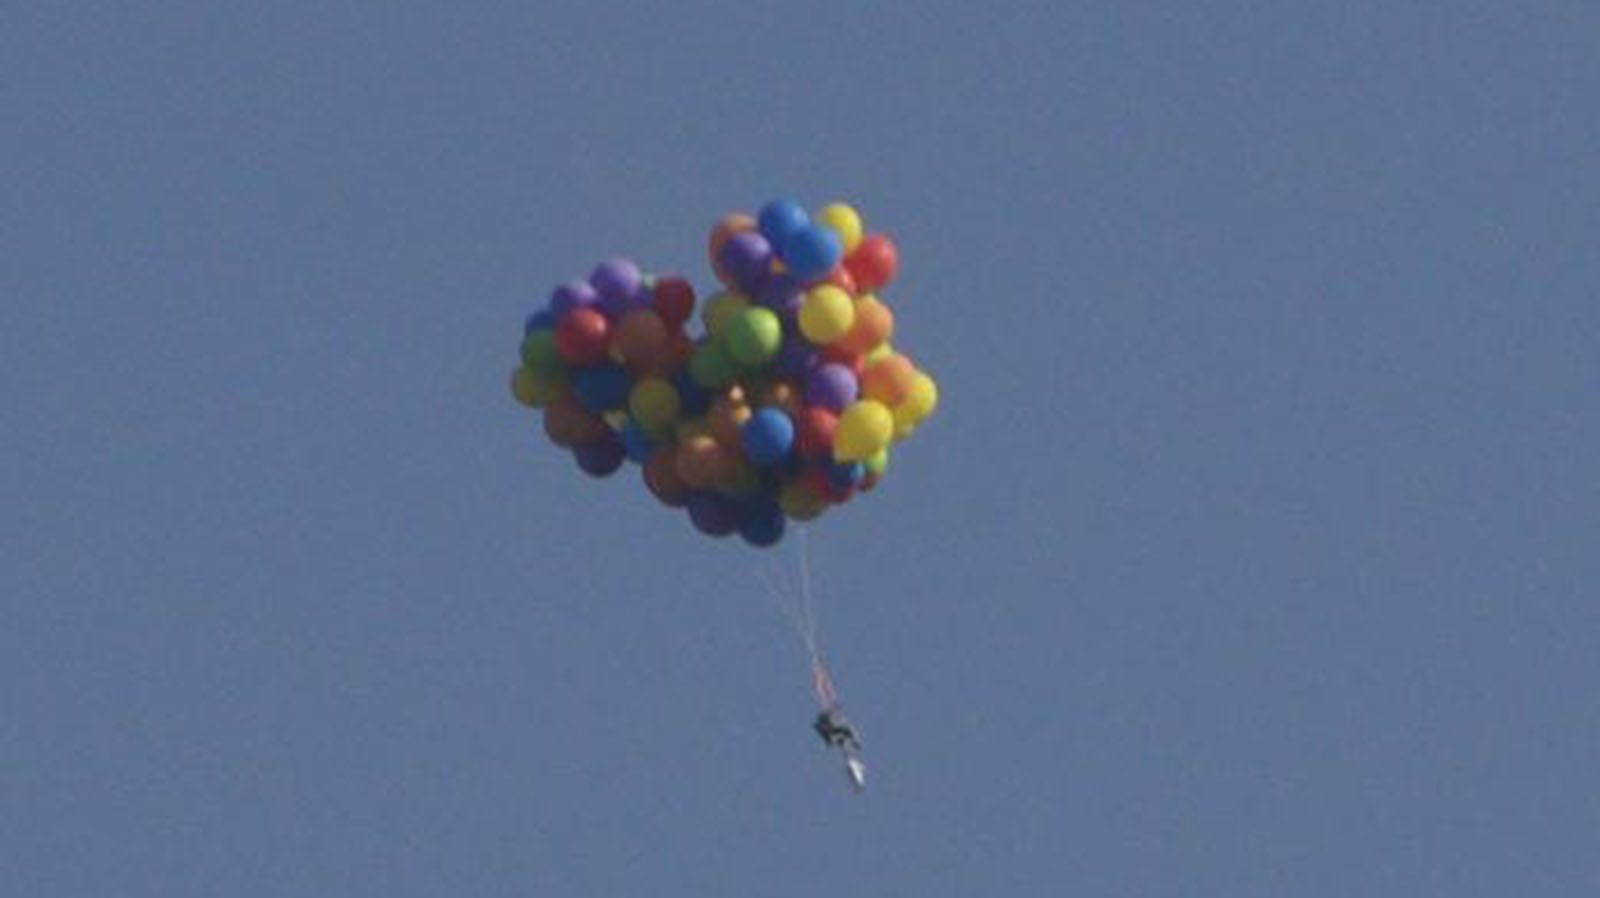Balloon: (720, 304, 784, 364), (832, 399, 895, 457), (799, 282, 857, 342), (741, 401, 796, 463), (611, 307, 666, 366), (557, 307, 612, 362), (721, 228, 775, 282), (627, 375, 680, 429), (678, 431, 732, 484), (570, 362, 629, 409), (864, 350, 912, 406), (788, 228, 838, 278), (690, 483, 738, 535), (738, 497, 786, 548), (762, 197, 809, 248), (595, 258, 643, 304), (807, 362, 857, 406)
